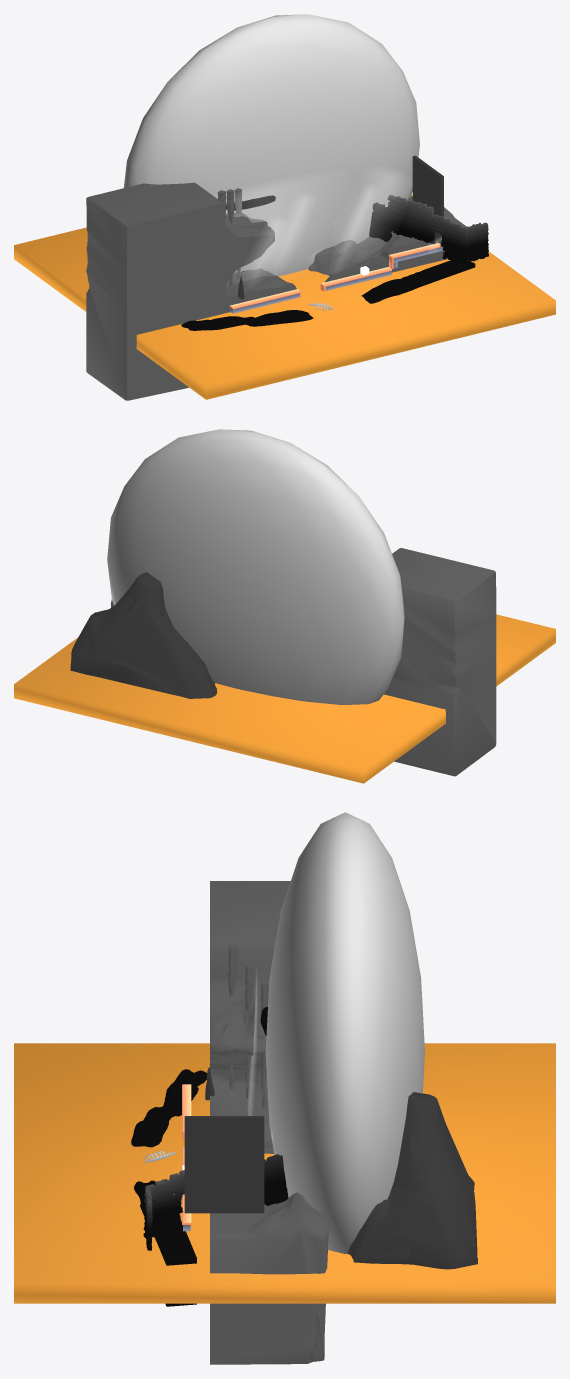
The model's file is level_01.glb.
3 views of the same model, one above another, from view 1: azimuth 30°, elevation 25°; view 2: azimuth 150°, elevation 25°; view 3: azimuth 270°, elevation 25° (orthographic). The views are drawn at different scales.
Parts seen in each view (by area): view 1: glow.003, danger, mound, light-ray.001, SM_Bld_Ruins_Wall_01, Cube.012, goal_sensor.002, Cube.013, Pole.004; view 2: glow.003, danger, mound, mound.001; view 3: danger, glow.003, mound, mound.001, goal_sensor.002, SM_Bld_Ruins_Wall_01, Cube.013, Pole.004, Cube.012.
Part boxes in pixels (x1,y1,x2,y2): glow.003: (123, 14, 419, 276); danger: (14, 195, 555, 399); mound: (86, 182, 466, 400); light-ray.001: (226, 173, 441, 279); SM_Bld_Ruins_Wall_01: (369, 195, 488, 264); Cube.012: (361, 260, 475, 303); goal_sensor.002: (412, 155, 443, 244); Cube.013: (181, 310, 313, 330); Pole.004: (217, 188, 241, 285); glow.003: (107, 429, 404, 704); danger: (14, 614, 555, 783); mound: (110, 548, 496, 776); mound.001: (70, 572, 217, 698); danger: (14, 1043, 555, 1303); glow.003: (265, 812, 424, 1253); mound: (210, 881, 328, 1364); mound.001: (347, 1092, 477, 1269); goal_sensor.002: (184, 1116, 264, 1213); SM_Bld_Ruins_Wall_01: (143, 1154, 288, 1250); Cube.013: (131, 1069, 207, 1147); Pole.004: (228, 943, 269, 1108); Cube.012: (134, 1180, 196, 1306).
Bounding box in the file's own units: 126 × 104 × 117.
Materials: 4 (4 with a texture image).
